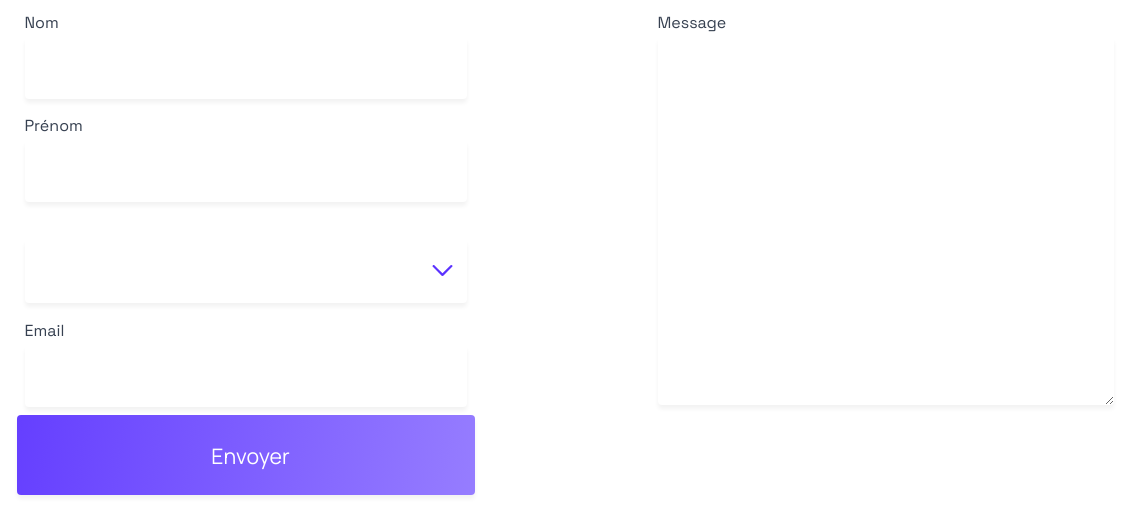
Test: When the form is sending › the submit button is disabled
The width and height of the screenshot is (1130, 514).
# Simule un clic sur le bouton pour déclencher l'envoi
Click the button with test id "button-test-id".
click(246, 455)  # box [16,415,474,495]
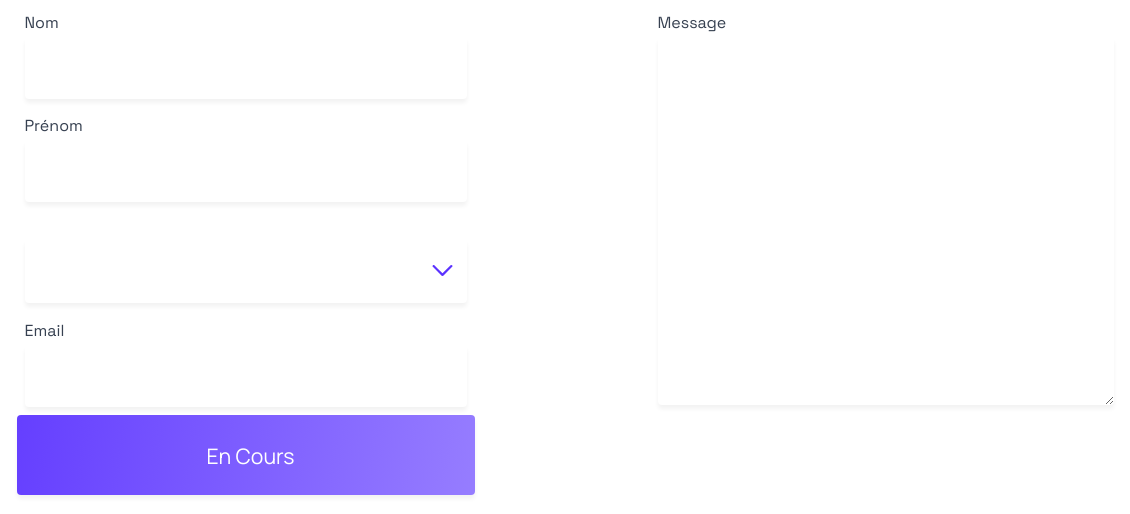
Check: the button with test id "button-test-id" is disabled, box [16,415,474,495]
